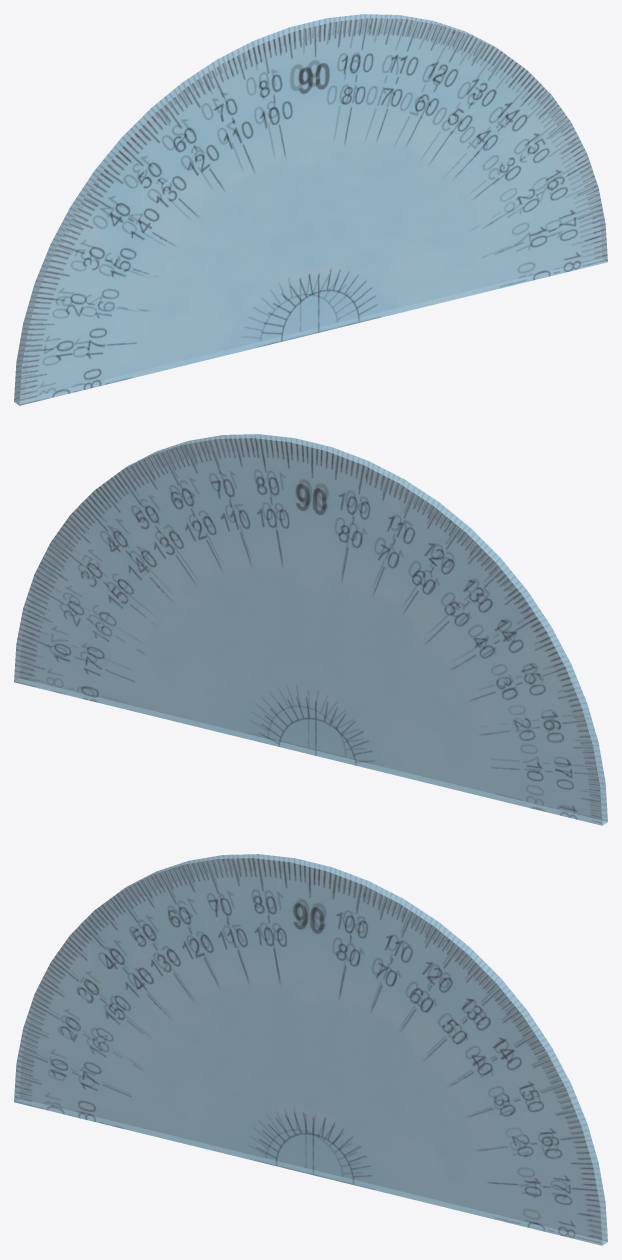
The model's file is ProtractorFBX.fbx.
The picture shows the model from 3 angles, top to bottom: view 1: azimuth 30°, elevation 25°; view 2: azimuth 150°, elevation 25°; view 3: azimuth 330°, elevation 25°; orthographic projection.
Parts seen in each view (by area): view 1: pCylinder1; view 2: pCylinder1; view 3: pCylinder1.
Part boxes in pixels (x1,y1,x2,y2): pCylinder1: [14, 14, 607, 405]; pCylinder1: [14, 434, 607, 825]; pCylinder1: [14, 854, 607, 1245].
Size of the model in its own units: 2 by 0.998 by 0.0322.
Materials: 1 (1 with a texture image).
